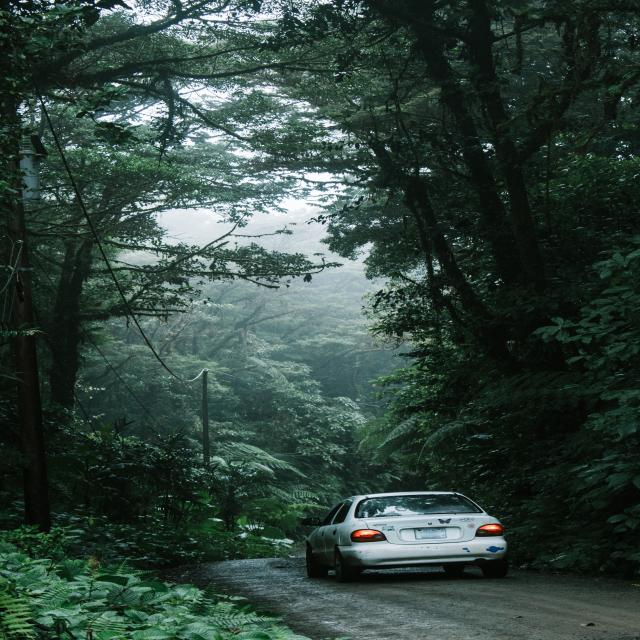car: (282, 469, 532, 584)
tree: (384, 58, 549, 444), (480, 44, 604, 432), (0, 166, 106, 554), (53, 209, 163, 543)
